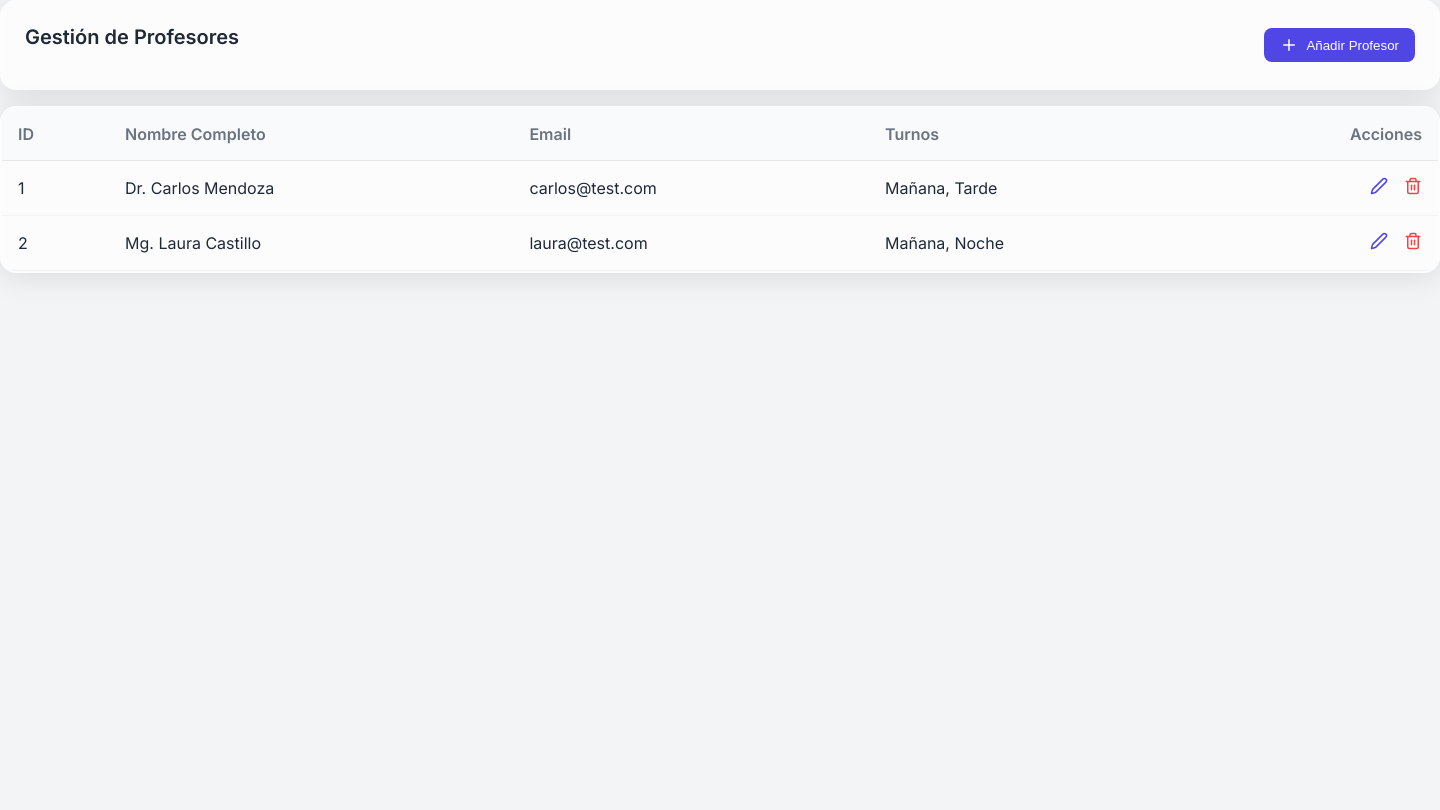
it: CrudView › abre modal en modo edición al hacer clic en editar
Check: the text "Dr. Carlos Mendoza" is shown, box [109,160,513,216]
Click the 2nd button: (1379, 188) [1370,177,1388,198]
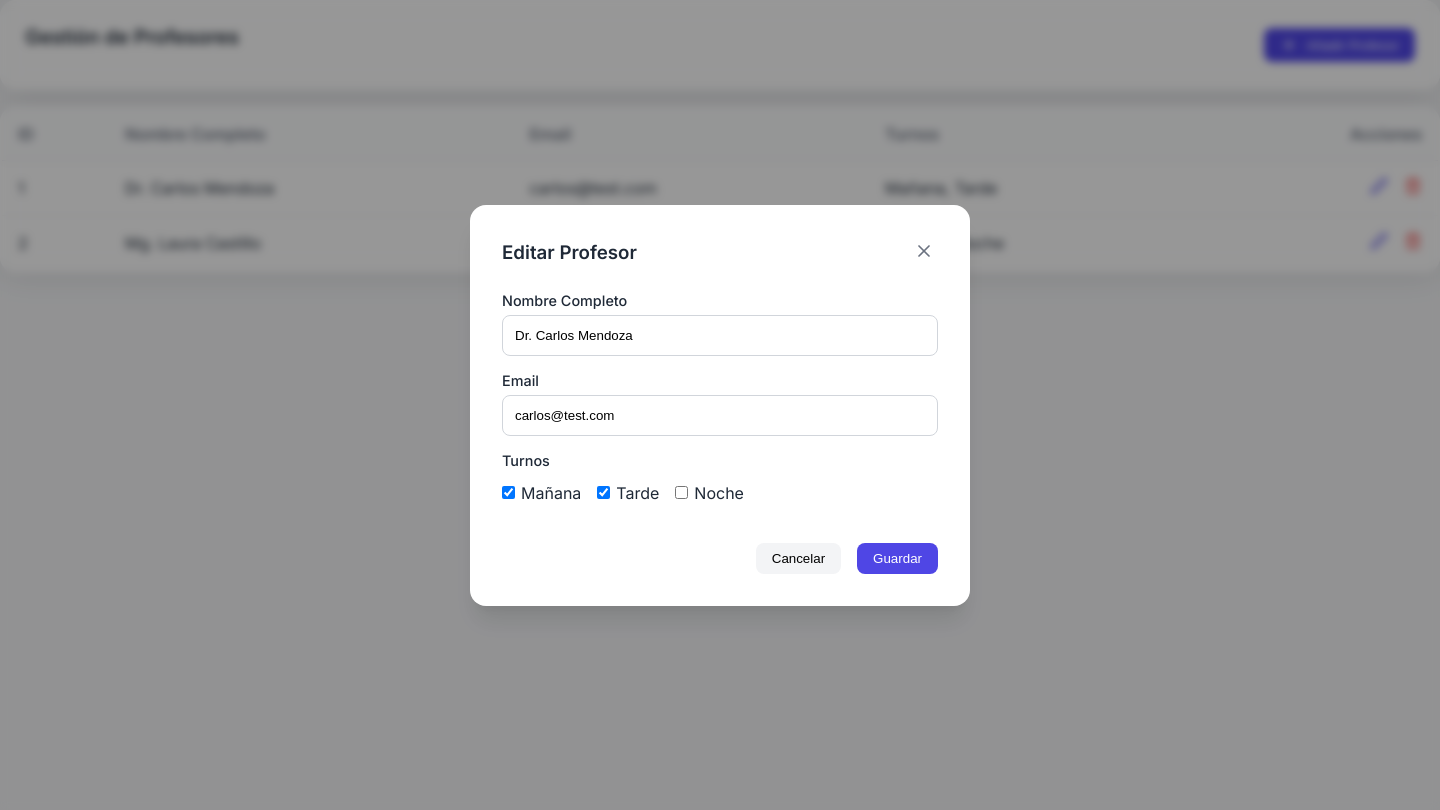
Check: the heading "Editar Profesor" is shown, box [502,240,637,264]
